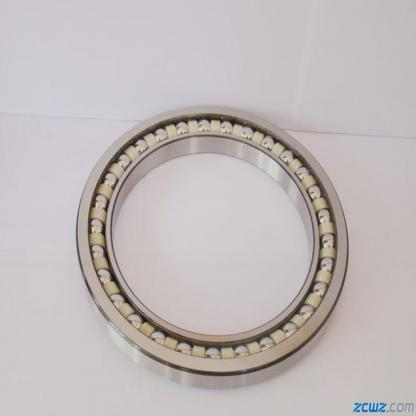FOD: (64, 102, 357, 392)
